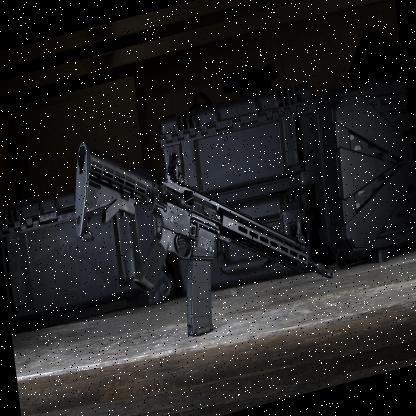rifle: (26, 156, 308, 416)
